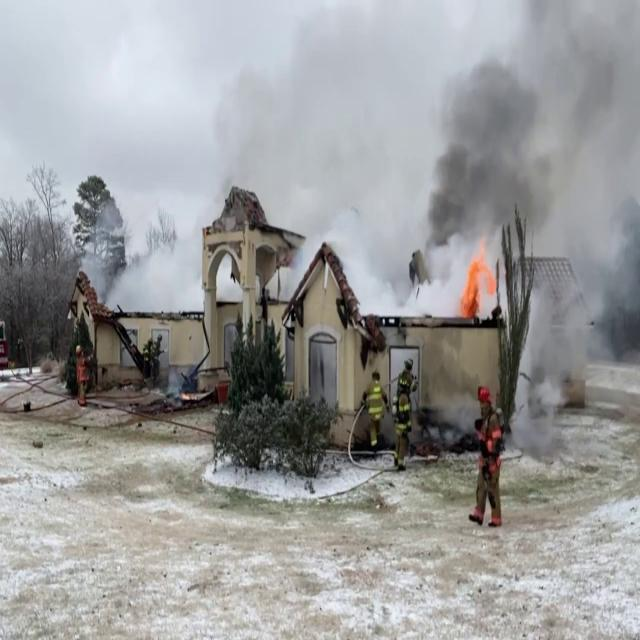Fire: (460, 241, 495, 318)
Smoke: (406, 0, 640, 380), (100, 218, 204, 314)
